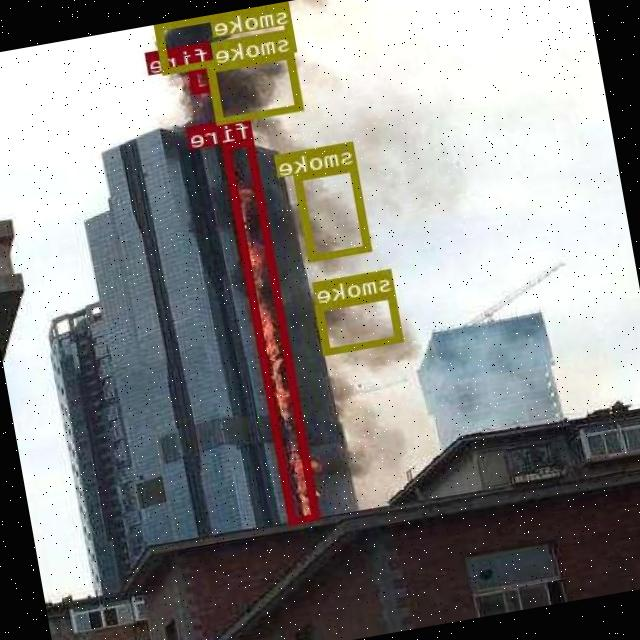fire: (223, 136, 322, 524), (189, 63, 218, 93)
smoke: (155, 1, 297, 74), (294, 162, 372, 260), (208, 50, 304, 124), (317, 290, 404, 352)
